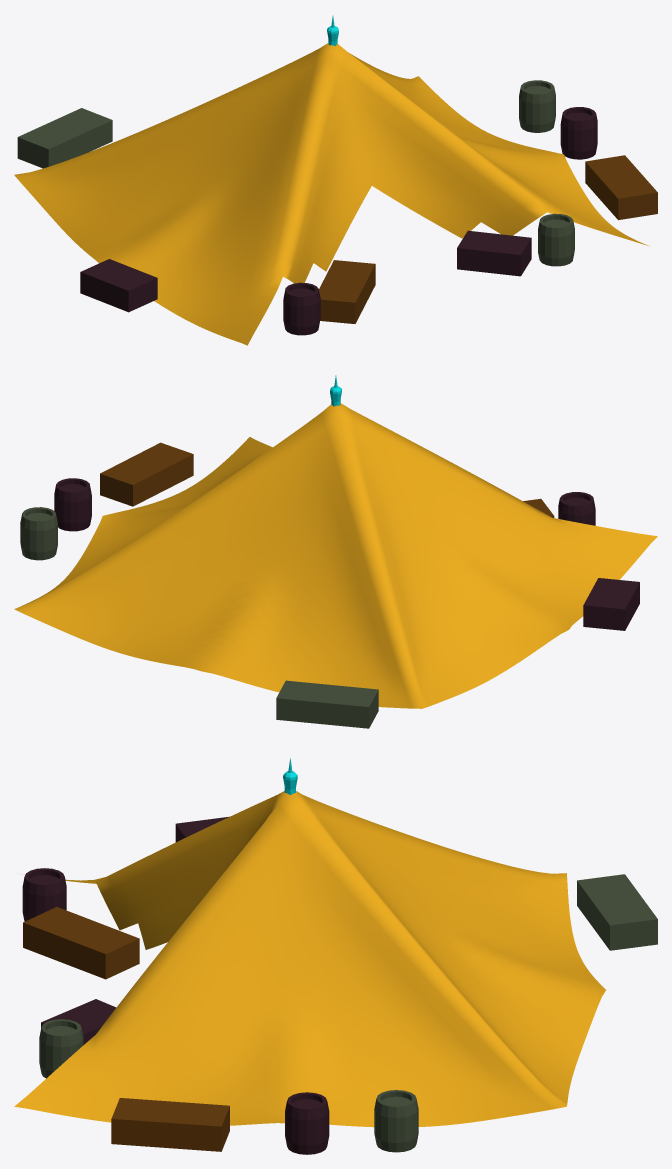
The model's file is yazir-bazaar.glb.
The picture shows the model from 3 angles, top to bottom: view 1: azimuth 30°, elevation 25°; view 2: azimuth 150°, elevation 25°; view 3: azimuth 270°, elevation 25°; orthographic projection. The views are drawn at different scales.
Parts seen in each view (by area): view 1: Plane, Cube.004, Cube.002, Cube, Cube.003, Cube.001, Cylinder.002, Cylinder.004, Cylinder.001, Cylinder.003; view 2: Plane, Cube.004, Cube.002, Cube.003, Cylinder.003, Cylinder.004, Cylinder.002; view 3: Plane, Cube.002, Cube, Cube.004, Cylinder.004, Cylinder.003, Cylinder.002, Cylinder.001, Cube.001.
Part boxes in pixels (x1,y1,x2,y2): Plane: [14, 43, 649, 345]; Cube.004: [17, 108, 112, 168]; Cube.002: [585, 155, 657, 220]; Cube: [319, 260, 375, 323]; Cube.003: [80, 259, 157, 312]; Cube.001: [457, 230, 531, 276]; Cylinder.002: [283, 282, 320, 335]; Cylinder.004: [560, 107, 597, 159]; Cylinder.001: [538, 213, 574, 266]; Cylinder.003: [519, 80, 555, 132]; Plane: [14, 403, 657, 708]; Cube.004: [276, 680, 378, 728]; Cube.002: [100, 442, 193, 506]; Cube.003: [583, 578, 639, 630]; Cylinder.003: [20, 507, 57, 560]; Cylinder.004: [54, 478, 91, 531]; Cylinder.002: [558, 492, 595, 525]; Plane: [14, 791, 605, 1127]; Cube.002: [111, 1098, 229, 1151]; Cube: [23, 907, 139, 979]; Cube.004: [577, 874, 657, 950]; Cylinder.004: [285, 1092, 329, 1154]; Cylinder.003: [374, 1090, 418, 1152]; Cylinder.002: [22, 868, 66, 921]; Cylinder.001: [39, 1019, 83, 1078]; Cube.001: [41, 999, 116, 1044].
Size of the model in its own units: 13.19 by 4.91 by 11.53.
